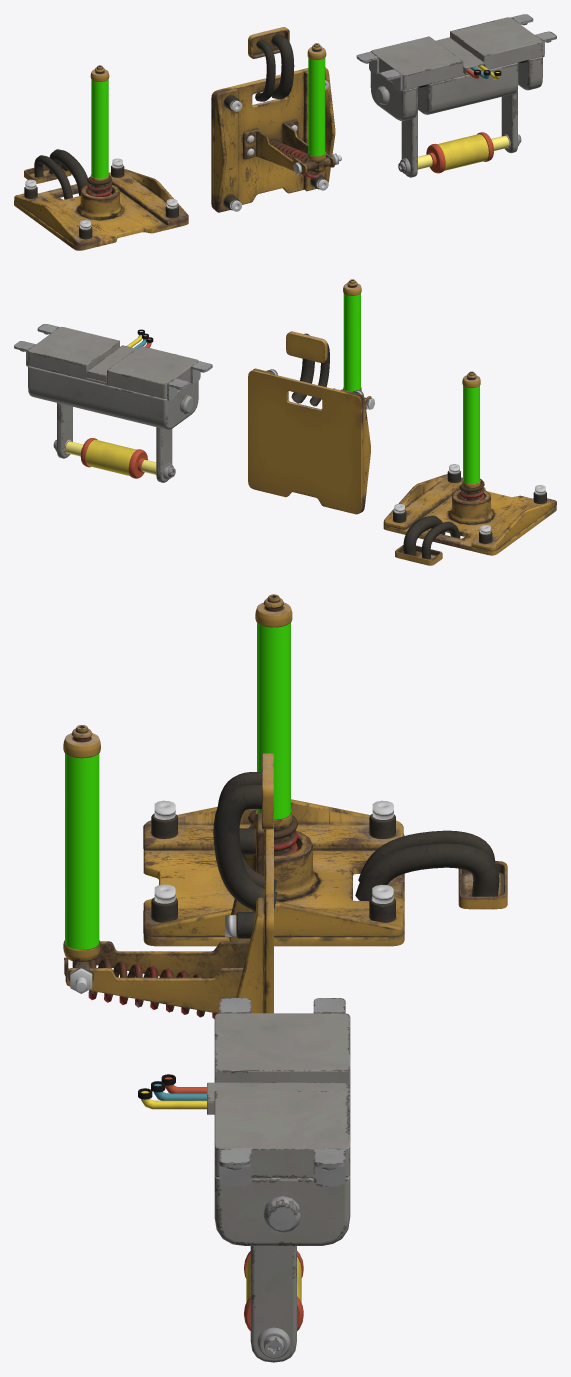
The model's file is GrabbleHandlesPack.fbx.
3 renders of one model, top to bottom at view 1: azimuth 30°, elevation 25°; view 2: azimuth 150°, elevation 25°; view 3: azimuth 270°, elevation 25°, orthographic. The views are drawn at different scales.
Visible parts, largest first — view 1: SM_DashHandle_002.mo, SM_SwingHook.mo, SM_DashHandle_001.mo, SM_SwingHookHand.mo; view 2: SM_DashHandle_002.mo, SM_SwingHook.mo, SM_DashHandle_001.mo, SM_SwingHookHand.mo; view 3: SM_DashHandle_001.mo, SM_SwingHook.mo, SM_DashHandle_002.mo, SM_SwingHookHand.mo.
Part boxes in pixels (x1=…): SM_DashHandle_002.mo: x1=211, y1=27, x2=341, y2=212; SM_SwingHook.mo: x1=356, y1=14, x2=556, y2=120; SM_DashHandle_001.mo: x1=14, y1=65, x2=188, y2=250; SM_SwingHookHand.mo: x1=398, y1=87, x2=521, y2=177; SM_DashHandle_002.mo: x1=248, y1=279, x2=374, y2=514; SM_SwingHook.mo: x1=14, y1=324, x2=212, y2=429; SM_DashHandle_001.mo: x1=383, y1=371, x2=556, y2=565; SM_SwingHookHand.mo: x1=53, y1=403, x2=175, y2=482; SM_DashHandle_001.mo: x1=143, y1=594, x2=507, y2=946; SM_SwingHook.mo: x1=138, y1=998, x2=350, y2=1245; SM_DashHandle_002.mo: x1=63, y1=725, x2=277, y2=1018; SM_SwingHookHand.mo: x1=244, y1=1246, x2=303, y2=1362.
Bounding box in the file's own units: 1312 × 512 × 508.
